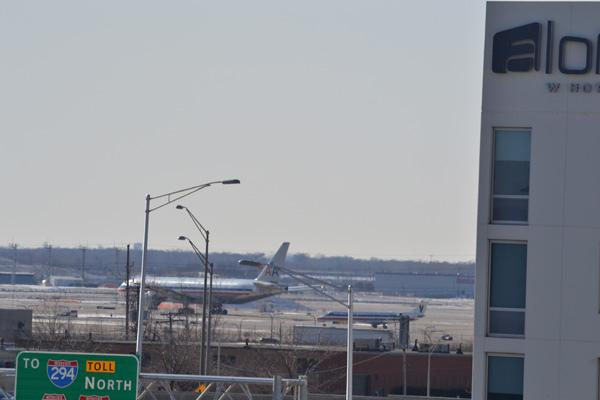airplane: (115, 239, 291, 317)
